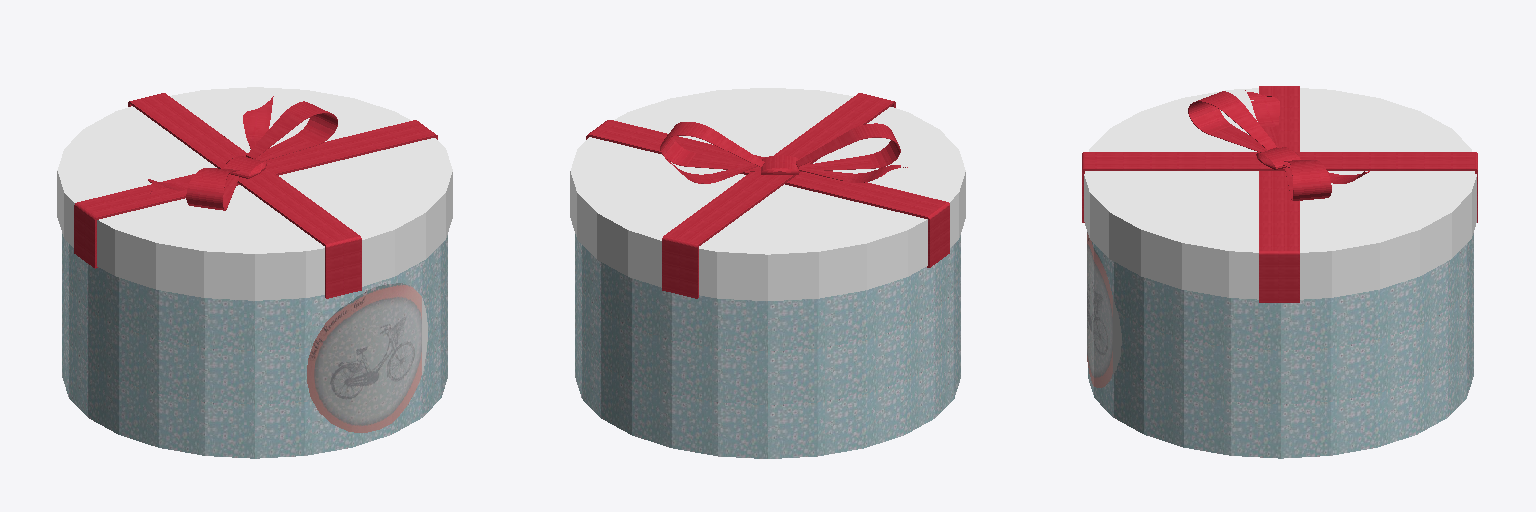
3 renders of one model, left to right at view 1: azimuth 30°, elevation 25°; view 2: azimuth 150°, elevation 25°; view 3: azimuth 270°, elevation 25°, orthographic.
Visible parts, largest first — view 1: Mesh2_Group3_Group1_Groupe_25_1_Model; view 2: Mesh2_Group3_Group1_Groupe_25_1_Model; view 3: Mesh2_Group3_Group1_Groupe_25_1_Model.
Part boxes in pixels (x1,y1,x2,y2): Mesh2_Group3_Group1_Groupe_25_1_Model: (57, 87, 452, 458); Mesh2_Group3_Group1_Groupe_25_1_Model: (570, 88, 965, 458); Mesh2_Group3_Group1_Groupe_25_1_Model: (1082, 86, 1477, 458).
Size of the model in its own units: 1.48 by 0.9991 by 1.48.
Materials: 4 (3 with a texture image).